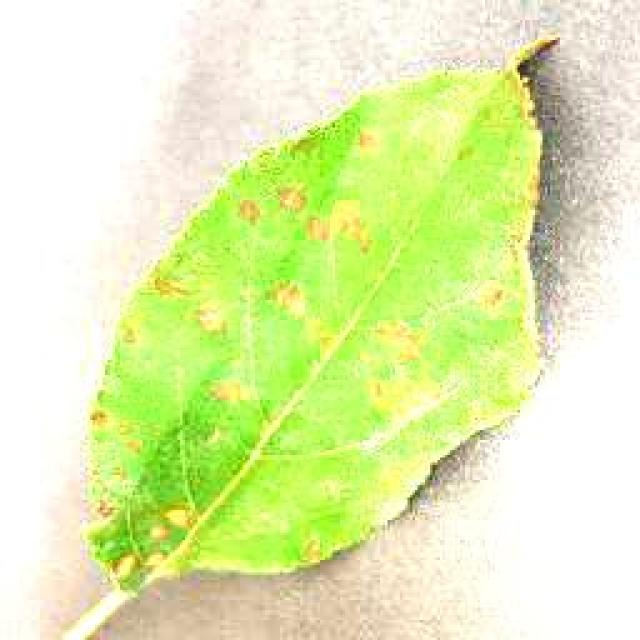apple cedar apple rust: (75, 30, 565, 595)
